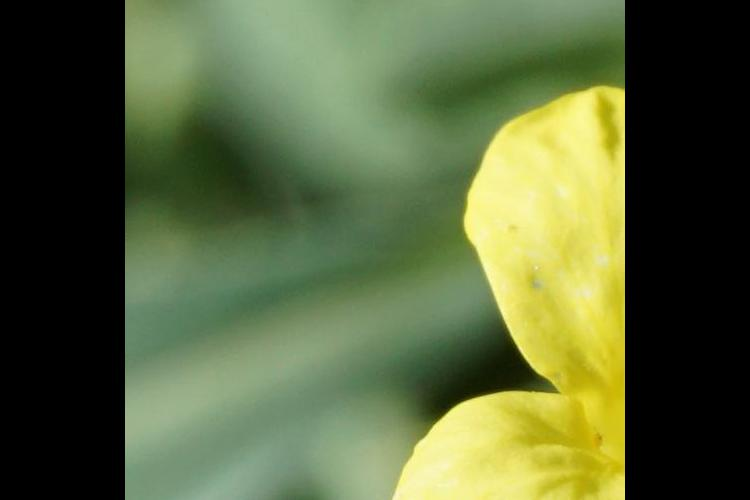yellow: (395, 85, 623, 500)
